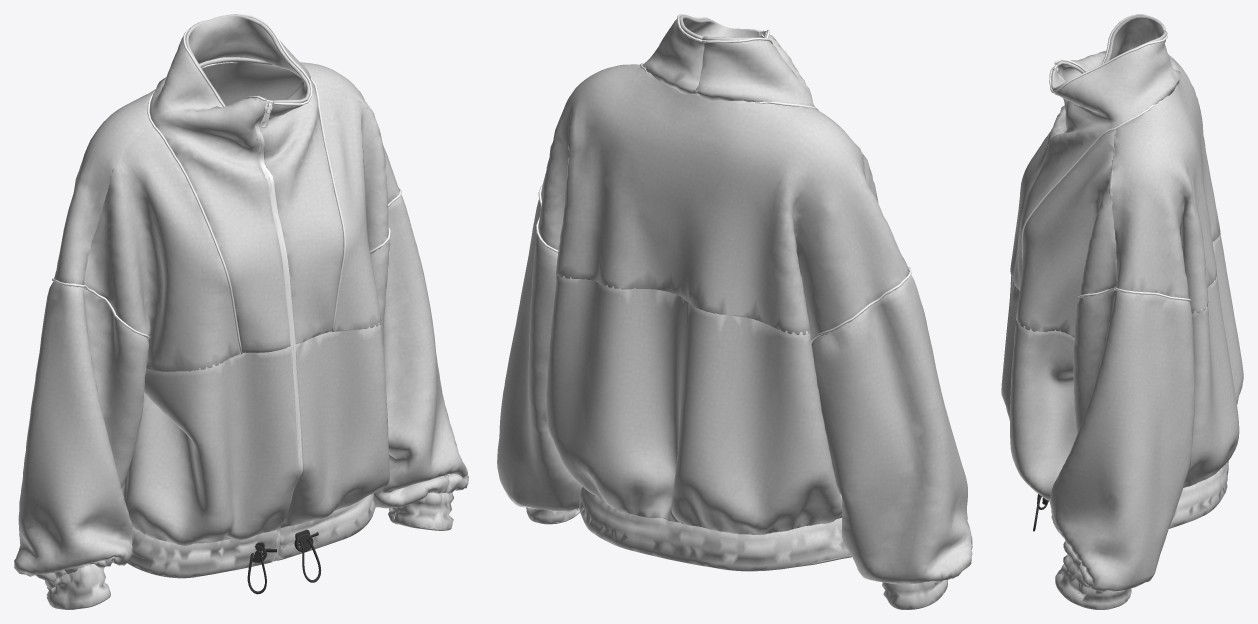
File: jacket.glb
The picture shows the model from 3 angles, left to right: view 1: azimuth 30°, elevation 25°; view 2: azimuth 150°, elevation 25°; view 3: azimuth 270°, elevation 25°; orthographic projection. The views are drawn at different scales.
Parts seen in each view (by area): view 1: Object_16, Object_8, Object_15, Object_10, Object_11, Object_9, Object_12, Object_17, Object_13, Object_7, Object_6; view 2: Object_17, Object_14, Object_15, Object_10, Object_12, Object_11, Object_13, Object_7, Object_8; view 3: Object_12, Object_17, Object_16, Object_9, Object_10, Object_14, Object_11, Object_13, Object_7, Object_6, Object_8.
Boxes of the visible parts, bbox=[...] form: Object_16: bbox=[83, 85, 388, 371]; Object_8: bbox=[121, 15, 310, 545]; Object_15: bbox=[14, 282, 148, 582]; Object_10: bbox=[128, 14, 375, 578]; Object_11: bbox=[149, 21, 290, 352]; Object_9: bbox=[186, 20, 389, 528]; Object_12: bbox=[370, 194, 468, 508]; Object_17: bbox=[53, 57, 399, 287]; Object_13: bbox=[45, 100, 453, 609]; Object_7: bbox=[52, 14, 401, 577]; Object_6: bbox=[55, 62, 451, 609]; Object_17: bbox=[538, 64, 908, 343]; Object_14: bbox=[546, 272, 841, 534]; Object_15: bbox=[811, 271, 972, 584]; Object_10: bbox=[579, 15, 851, 571]; Object_12: bbox=[497, 200, 582, 511]; Object_11: bbox=[695, 31, 815, 107]; Object_13: bbox=[526, 30, 947, 609]; Object_7: bbox=[536, 14, 911, 570]; Object_8: bbox=[680, 15, 760, 92]; Object_12: bbox=[1050, 288, 1194, 592]; Object_17: bbox=[1108, 54, 1220, 313]; Object_16: bbox=[1016, 129, 1117, 337]; Object_9: bbox=[1001, 15, 1180, 501]; Object_10: bbox=[1013, 31, 1228, 533]; Object_14: bbox=[1183, 233, 1243, 487]; Object_11: bbox=[1010, 15, 1179, 278]; Object_13: bbox=[1002, 65, 1131, 608]; Object_7: bbox=[1049, 14, 1191, 301]; Object_6: bbox=[1001, 66, 1157, 609]; Object_8: bbox=[1001, 30, 1180, 384].
Bounding box in the file's own units: 63.02 × 71.07 × 31.67.
3 materials, 1 textured.
